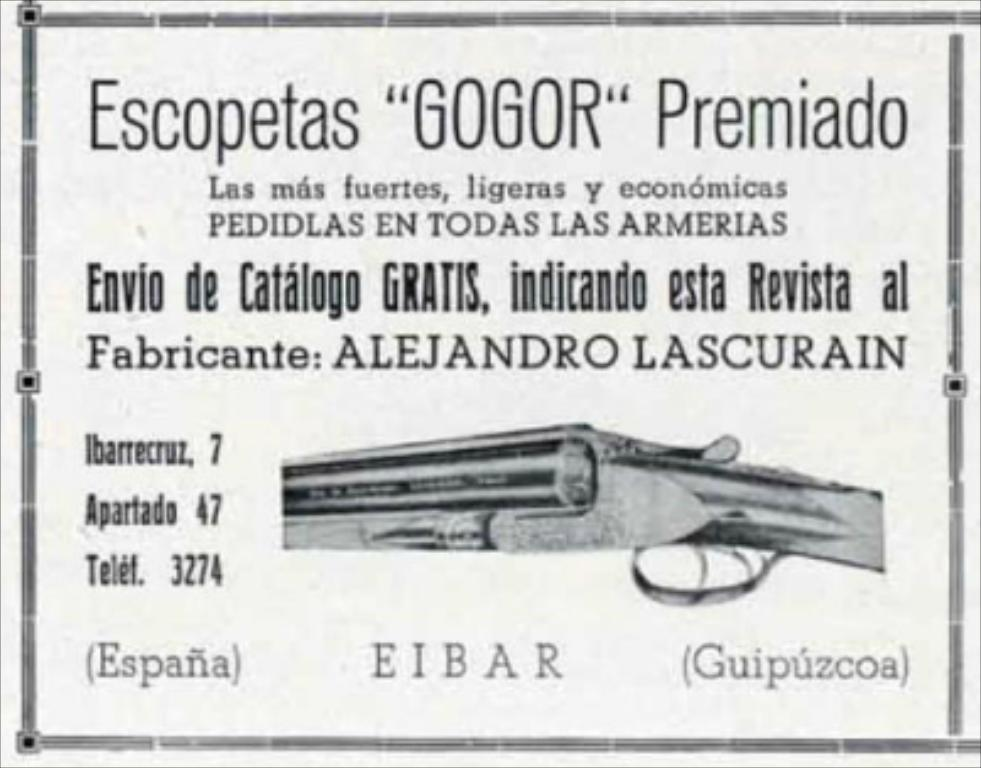Shotgun: (282, 422, 888, 604)
